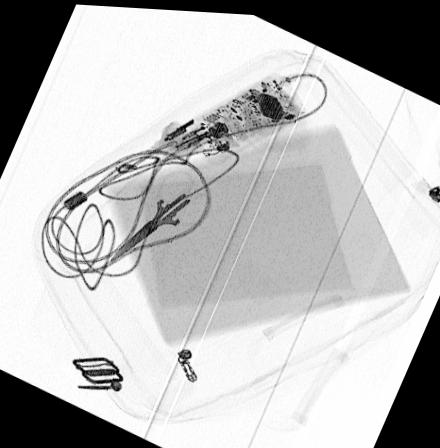Scissors: (110, 166, 217, 260)
